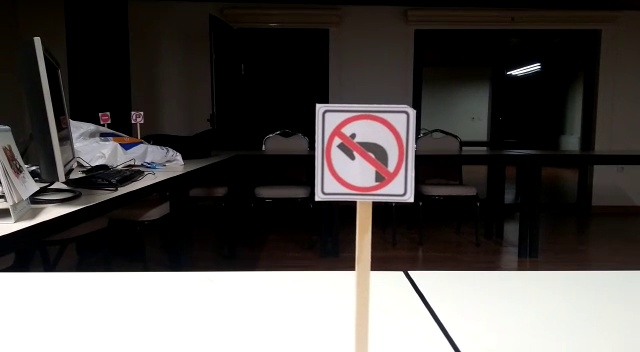sola_donulmez: (319, 113, 406, 193)
